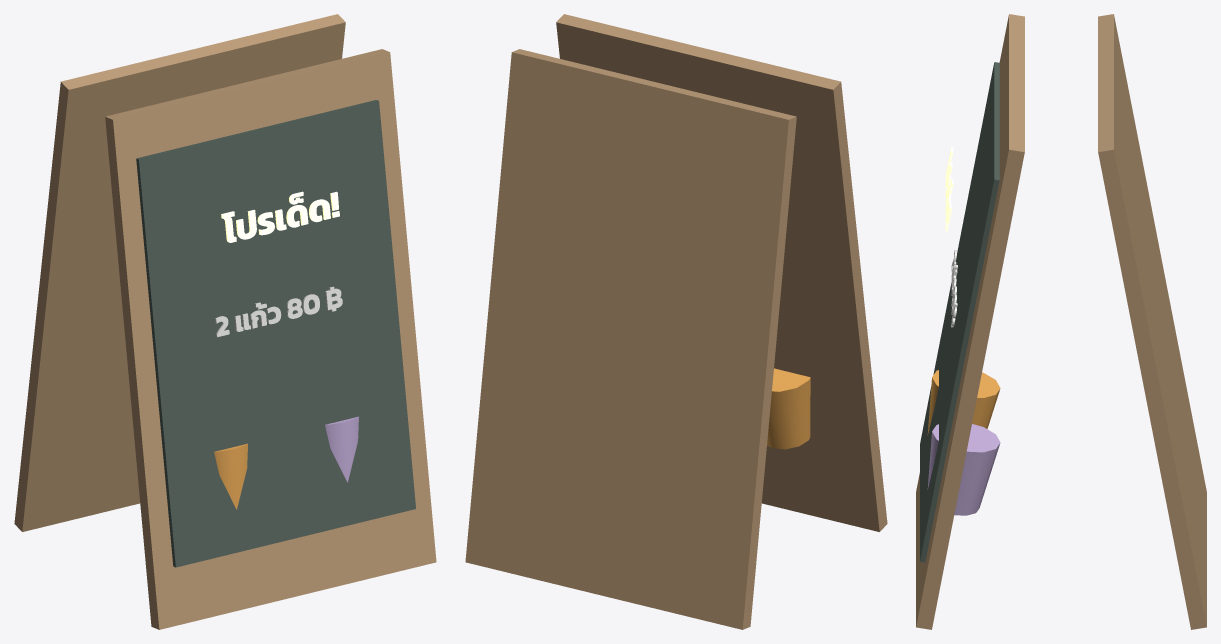
File: SM_PromoSign.fbx
3 views of the same model, side by side, from view 1: azimuth 30°, elevation 25°; view 2: azimuth 150°, elevation 25°; view 3: azimuth 270°, elevation 25° (orthographic).
Visible parts, largest first — view 1: SM_PromoSign; view 2: SM_PromoSign; view 3: SM_PromoSign.
Boxes of the visible parts, box(x1,y1,x2,y2) form: SM_PromoSign: box(14, 14, 436, 629); SM_PromoSign: box(465, 14, 887, 629); SM_PromoSign: box(916, 14, 1206, 629).
Bounding box in the file's own units: 0.6 × 0.99 × 0.5432.
